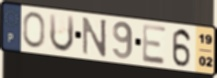6: (171, 27, 193, 69)
9: (111, 21, 134, 61)
E: (141, 23, 168, 67)
N: (81, 15, 108, 58)
O: (21, 11, 47, 50)
U: (48, 12, 76, 54)
